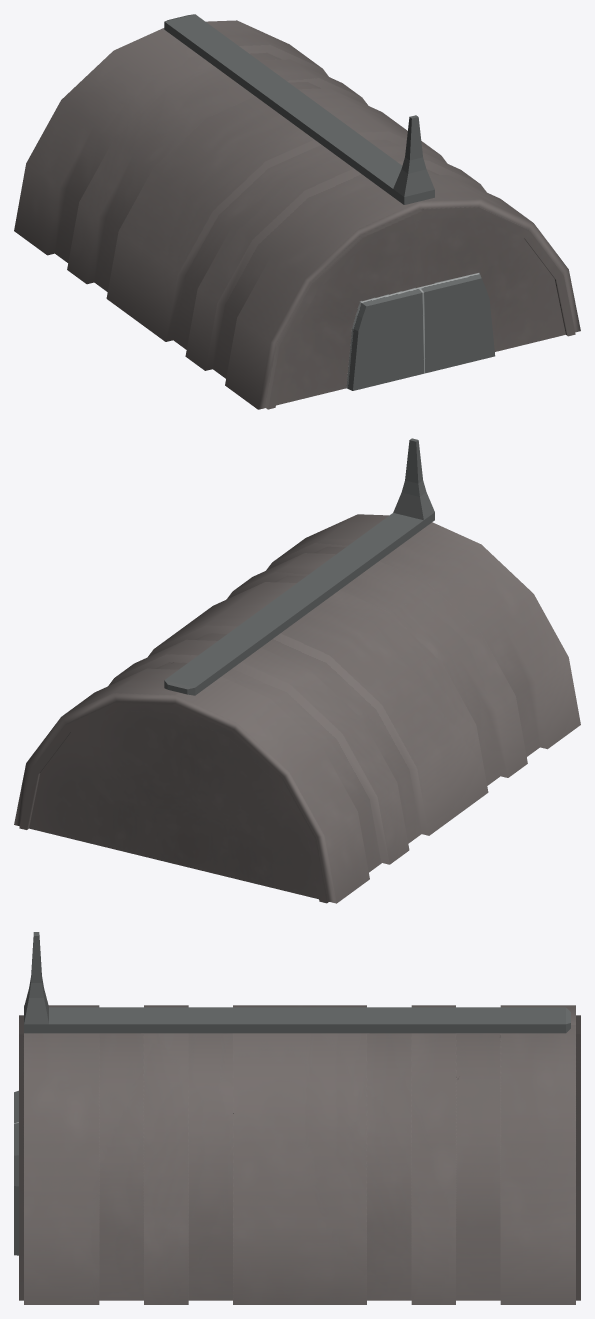
The model's file is SSCBunker1.fbx.
The picture shows the model from 3 angles, top to bottom: view 1: azimuth 30°, elevation 25°; view 2: azimuth 150°, elevation 25°; view 3: azimuth 270°, elevation 25°; orthographic projection. The views are drawn at different scales.
Visible parts, largest first — view 1: SSCBunker1_LOD0; view 2: SSCBunker1_LOD0; view 3: SSCBunker1_LOD0.
Part boxes in pixels (x1=…): SSCBunker1_LOD0: x1=14, y1=14, x2=580, y2=409; SSCBunker1_LOD0: x1=14, y1=438, x2=580, y2=903; SSCBunker1_LOD0: x1=14, y1=932, x2=580, y2=1304.
Size of what is drawn, in the model's own units: 8392 by 6200 by 11300.
